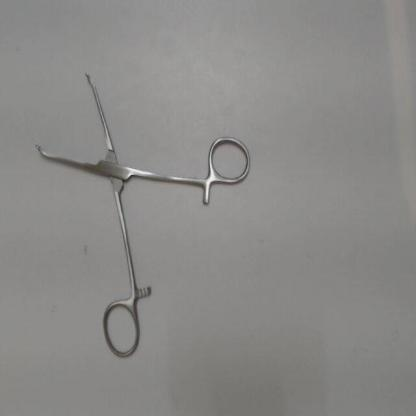Allis Tissue Forceps: (26, 59, 257, 366)
